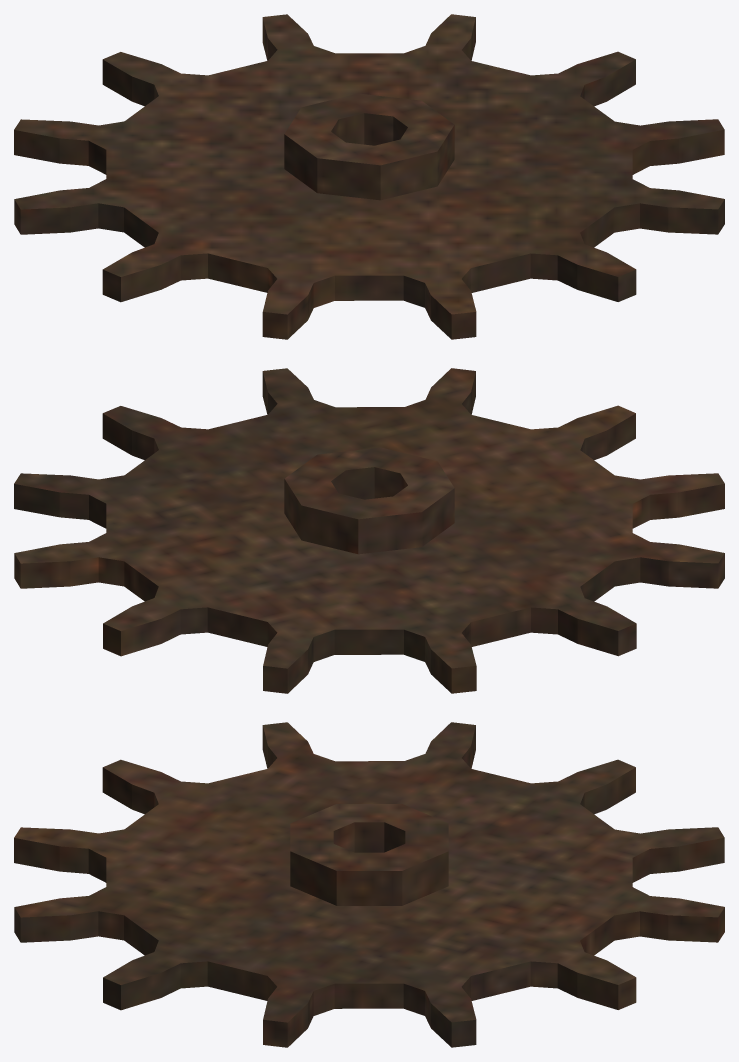
The model's file is gear_mx_6.obj.
3 renders of one model, top to bottom at view 1: azimuth 30°, elevation 25°; view 2: azimuth 150°, elevation 25°; view 3: azimuth 270°, elevation 25°, orthographic.
Parts seen in each view (by area): view 1: gear_mx_6; view 2: gear_mx_6; view 3: gear_mx_6.
Boxes of the visible parts, bbox=[...] form: gear_mx_6: bbox=[14, 14, 724, 339]; gear_mx_6: bbox=[14, 368, 724, 693]; gear_mx_6: bbox=[14, 722, 724, 1047].
Bounding box in the file's own units: 0.1934 × 0.0286 × 0.1934.
